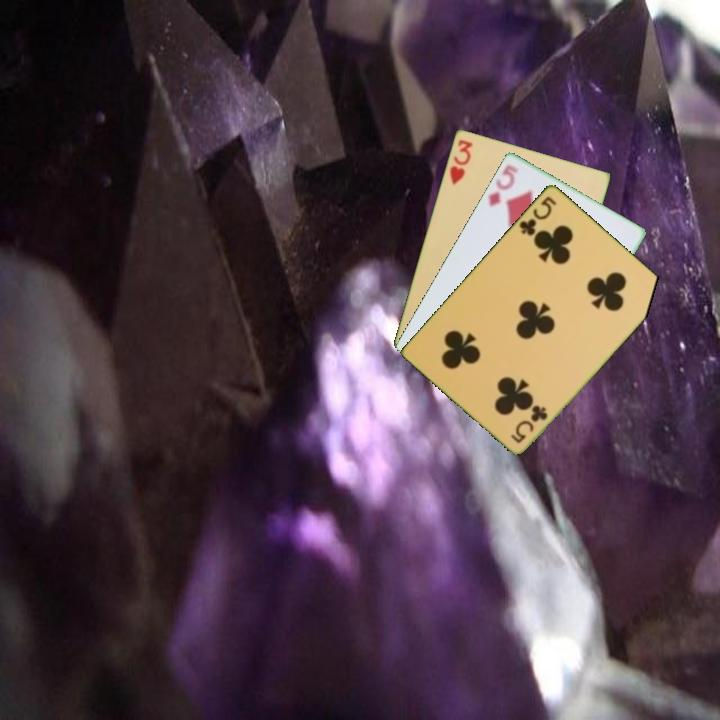3h: (446, 135, 476, 188)
5c: (515, 192, 559, 238), (507, 401, 551, 446)
5d: (485, 161, 521, 209)
